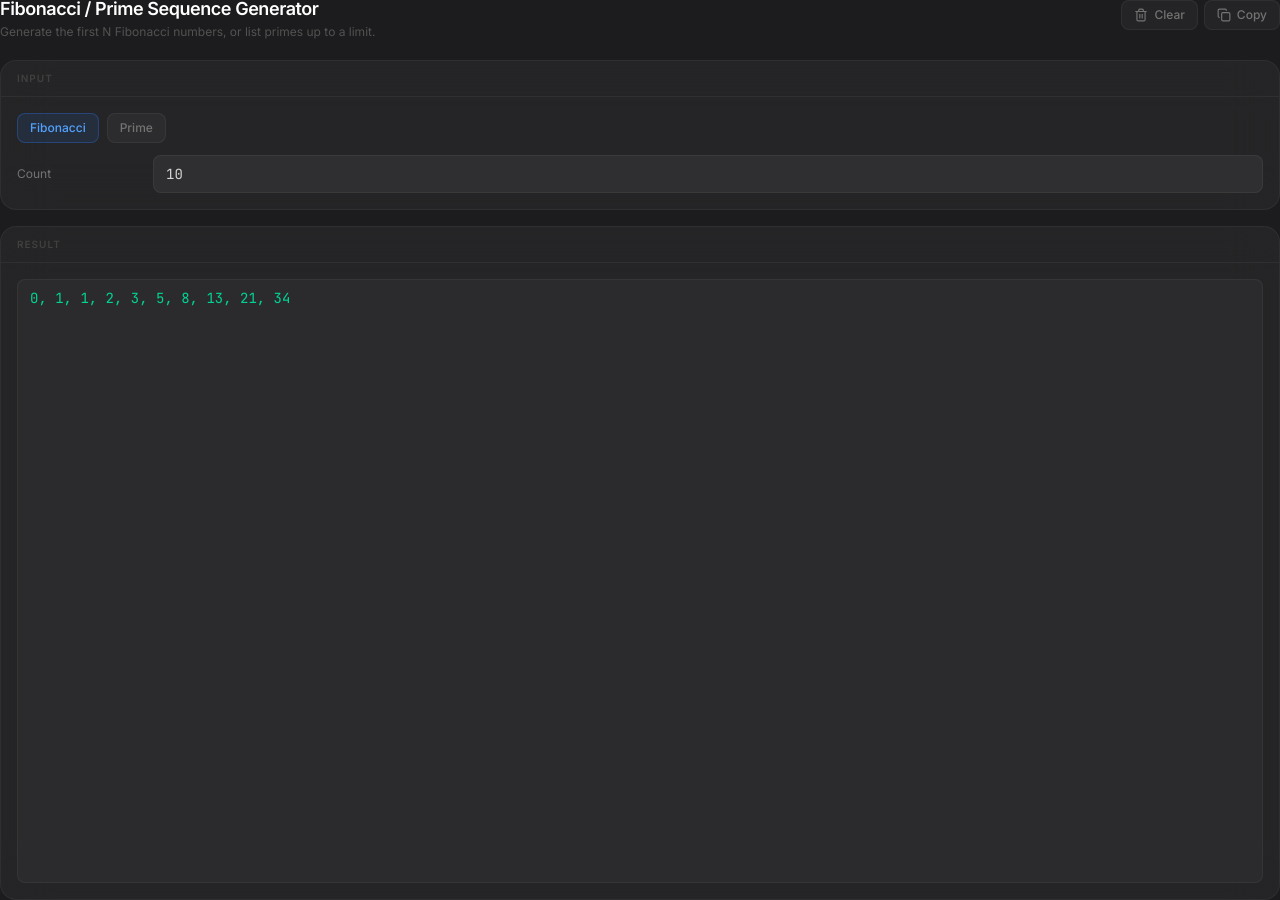
Test: FibonacciPrimeGeneratorTool › shows an error for an invalid Fibonacci count
The image size is (1280, 900).
Type "0" into the field labelled "Count" at [708, 174], box [153,155,1263,193]
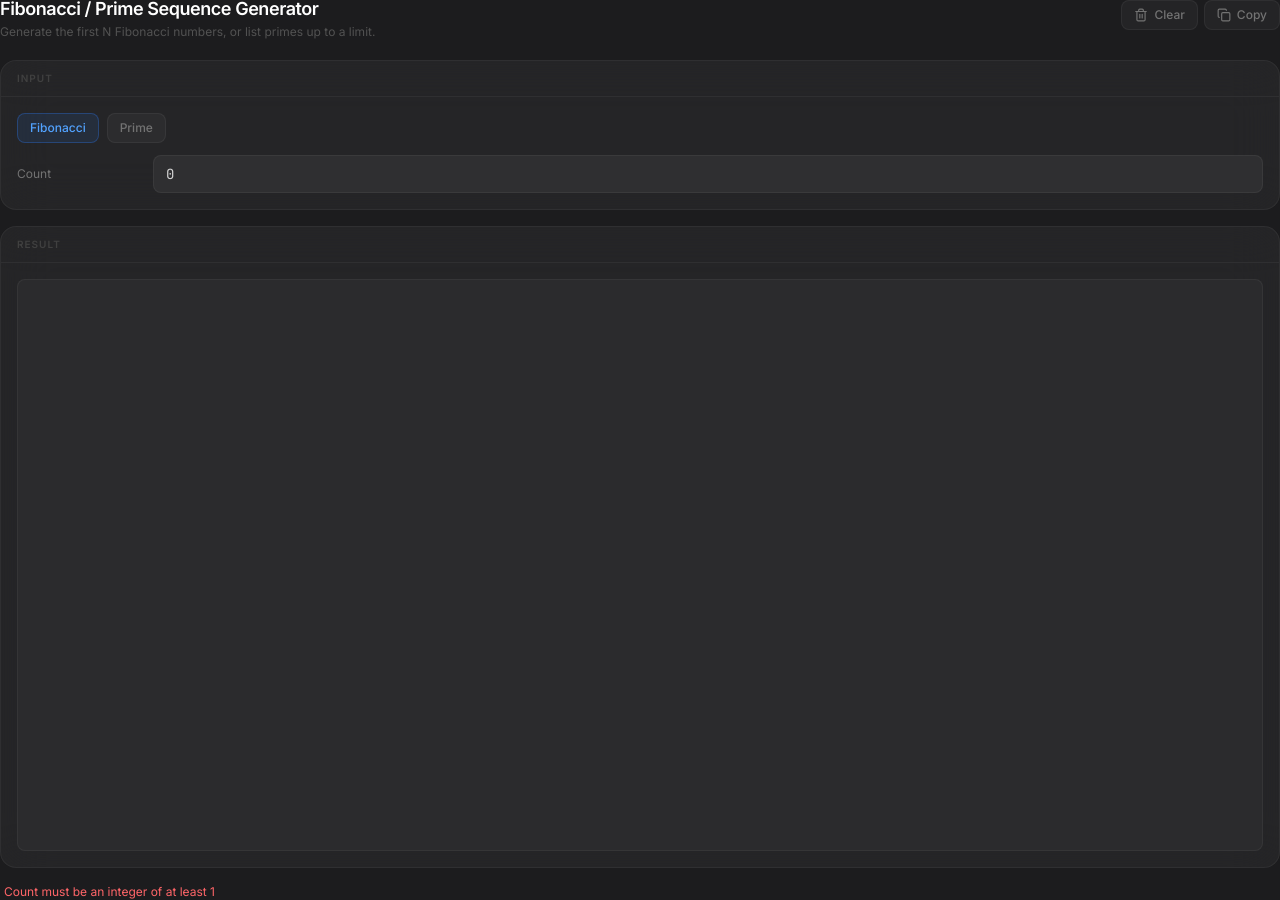
Expected: the text "Count must be an integer of at least 1" is shown, [4,884,215,899]
